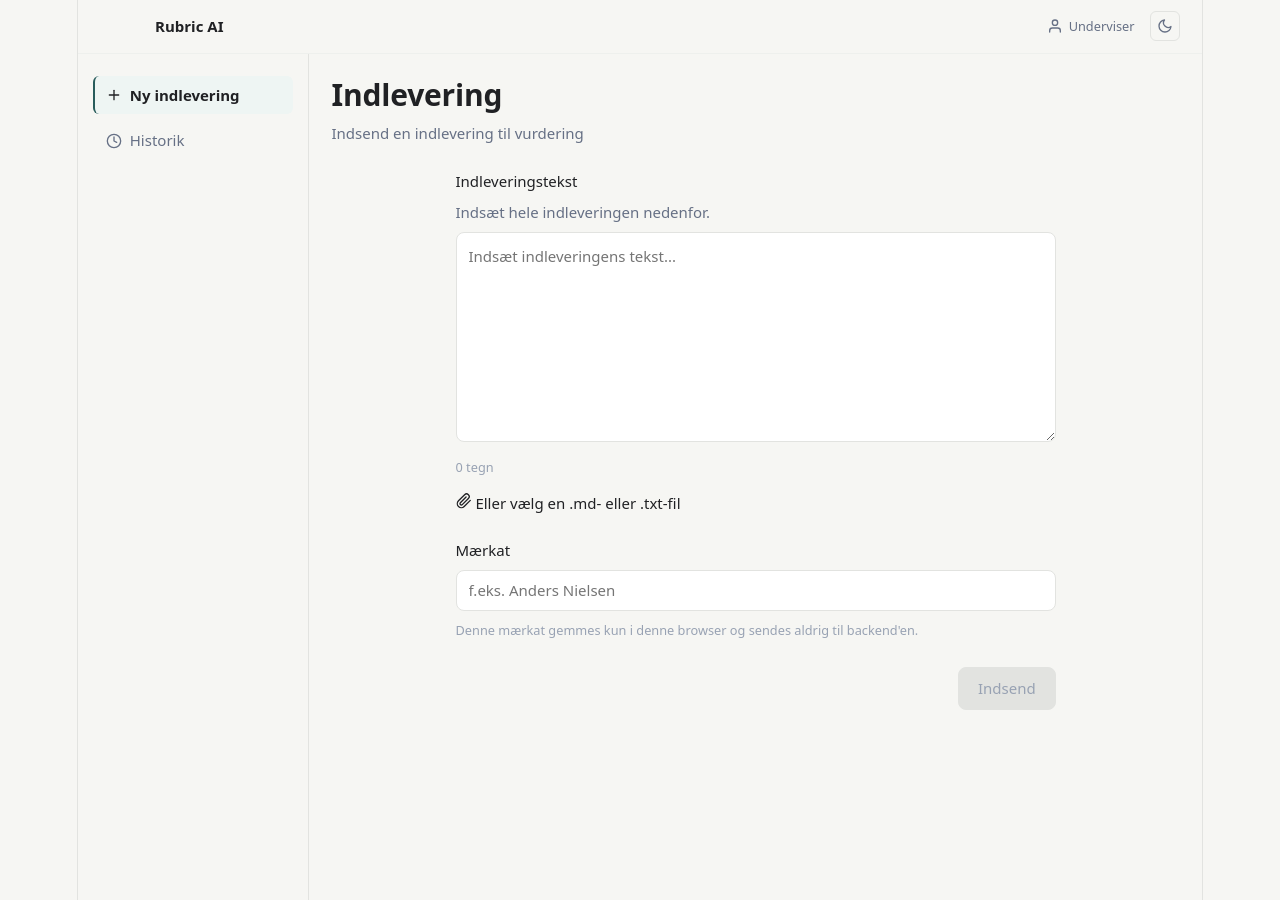
Scenario: Upload flow › shows configuration_error as a problem to report, with no Retry control
Type "Some submission text." into the text box labelled "Indleveringstekst" at (756,337), box [456,232,1056,442]
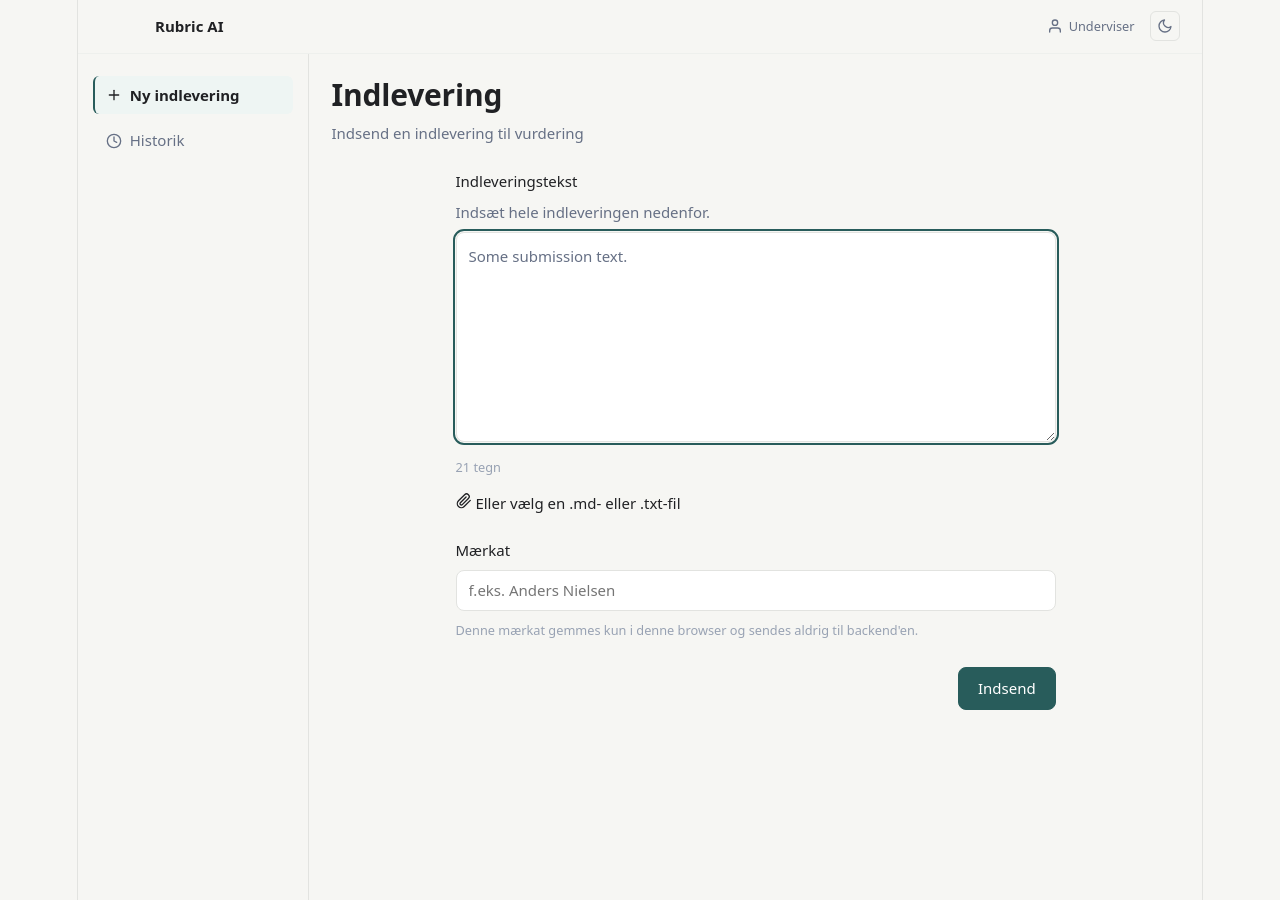
Click the button "Indsend" at (1007,688), box [958,667,1056,710]
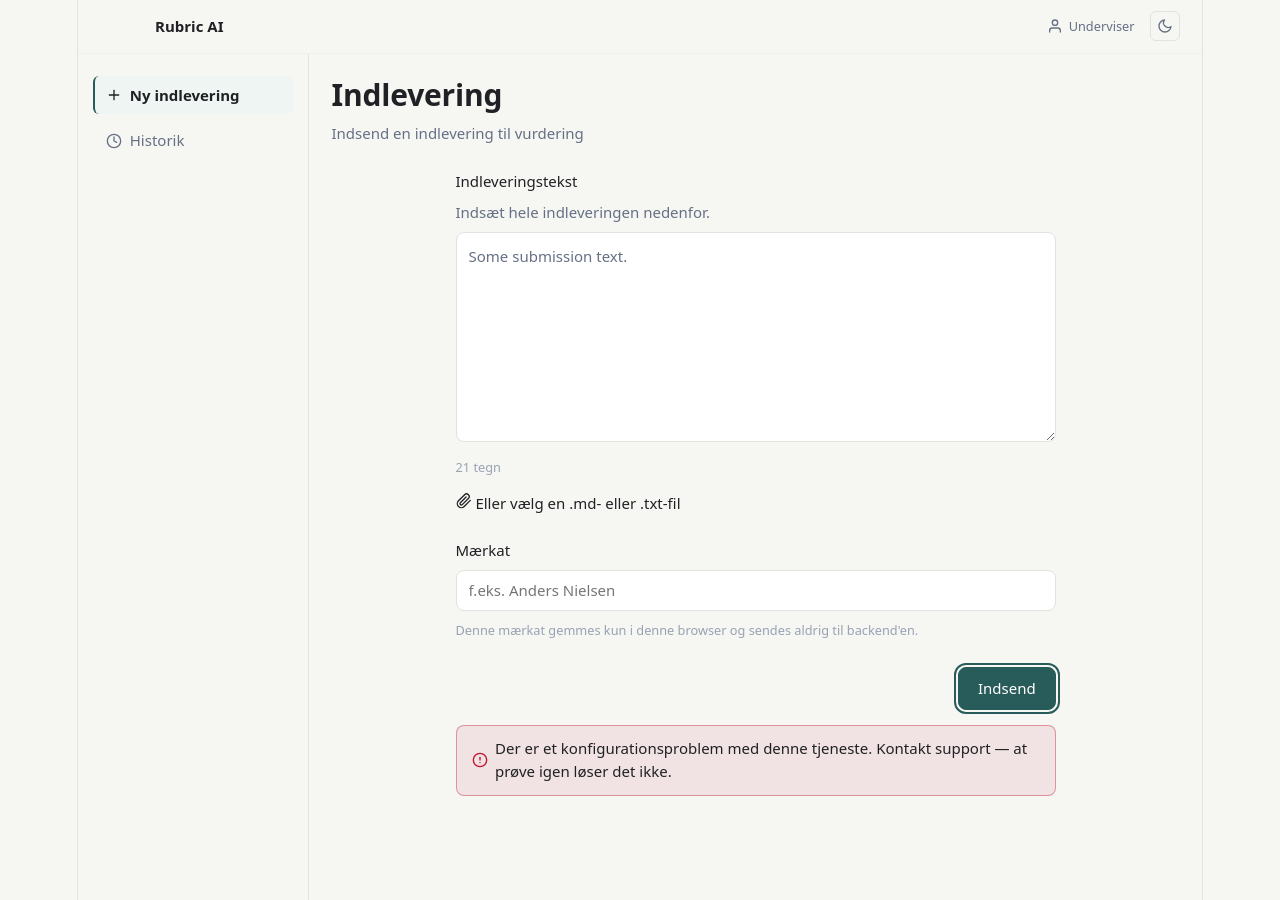
Check: the text box labelled "Indleveringstekst" is enabled, box [456,232,1056,442]
Check: the message shows "Der er et konfigurationsproblem med denne tjeneste. Kontakt support — at prøve igen løser det ikke.", box [495,738,1027,782]
Check: the message shows "Kontakt", box [495,738,1027,782]
